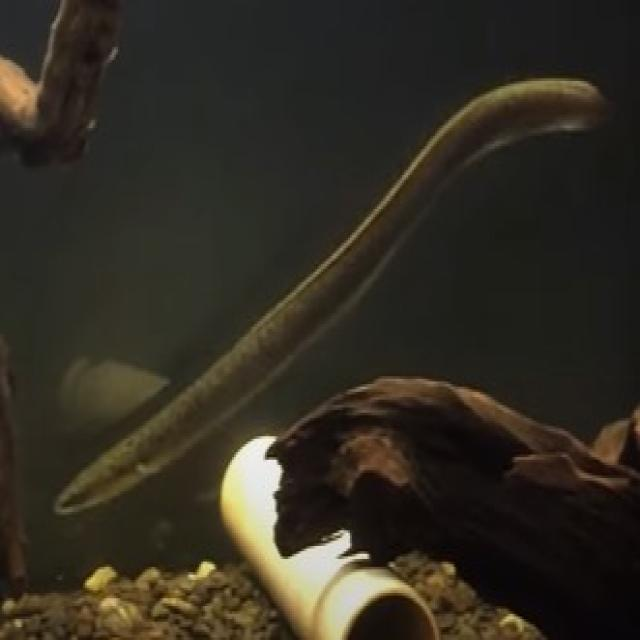Freshwater-Eel: (46, 49, 608, 561)
